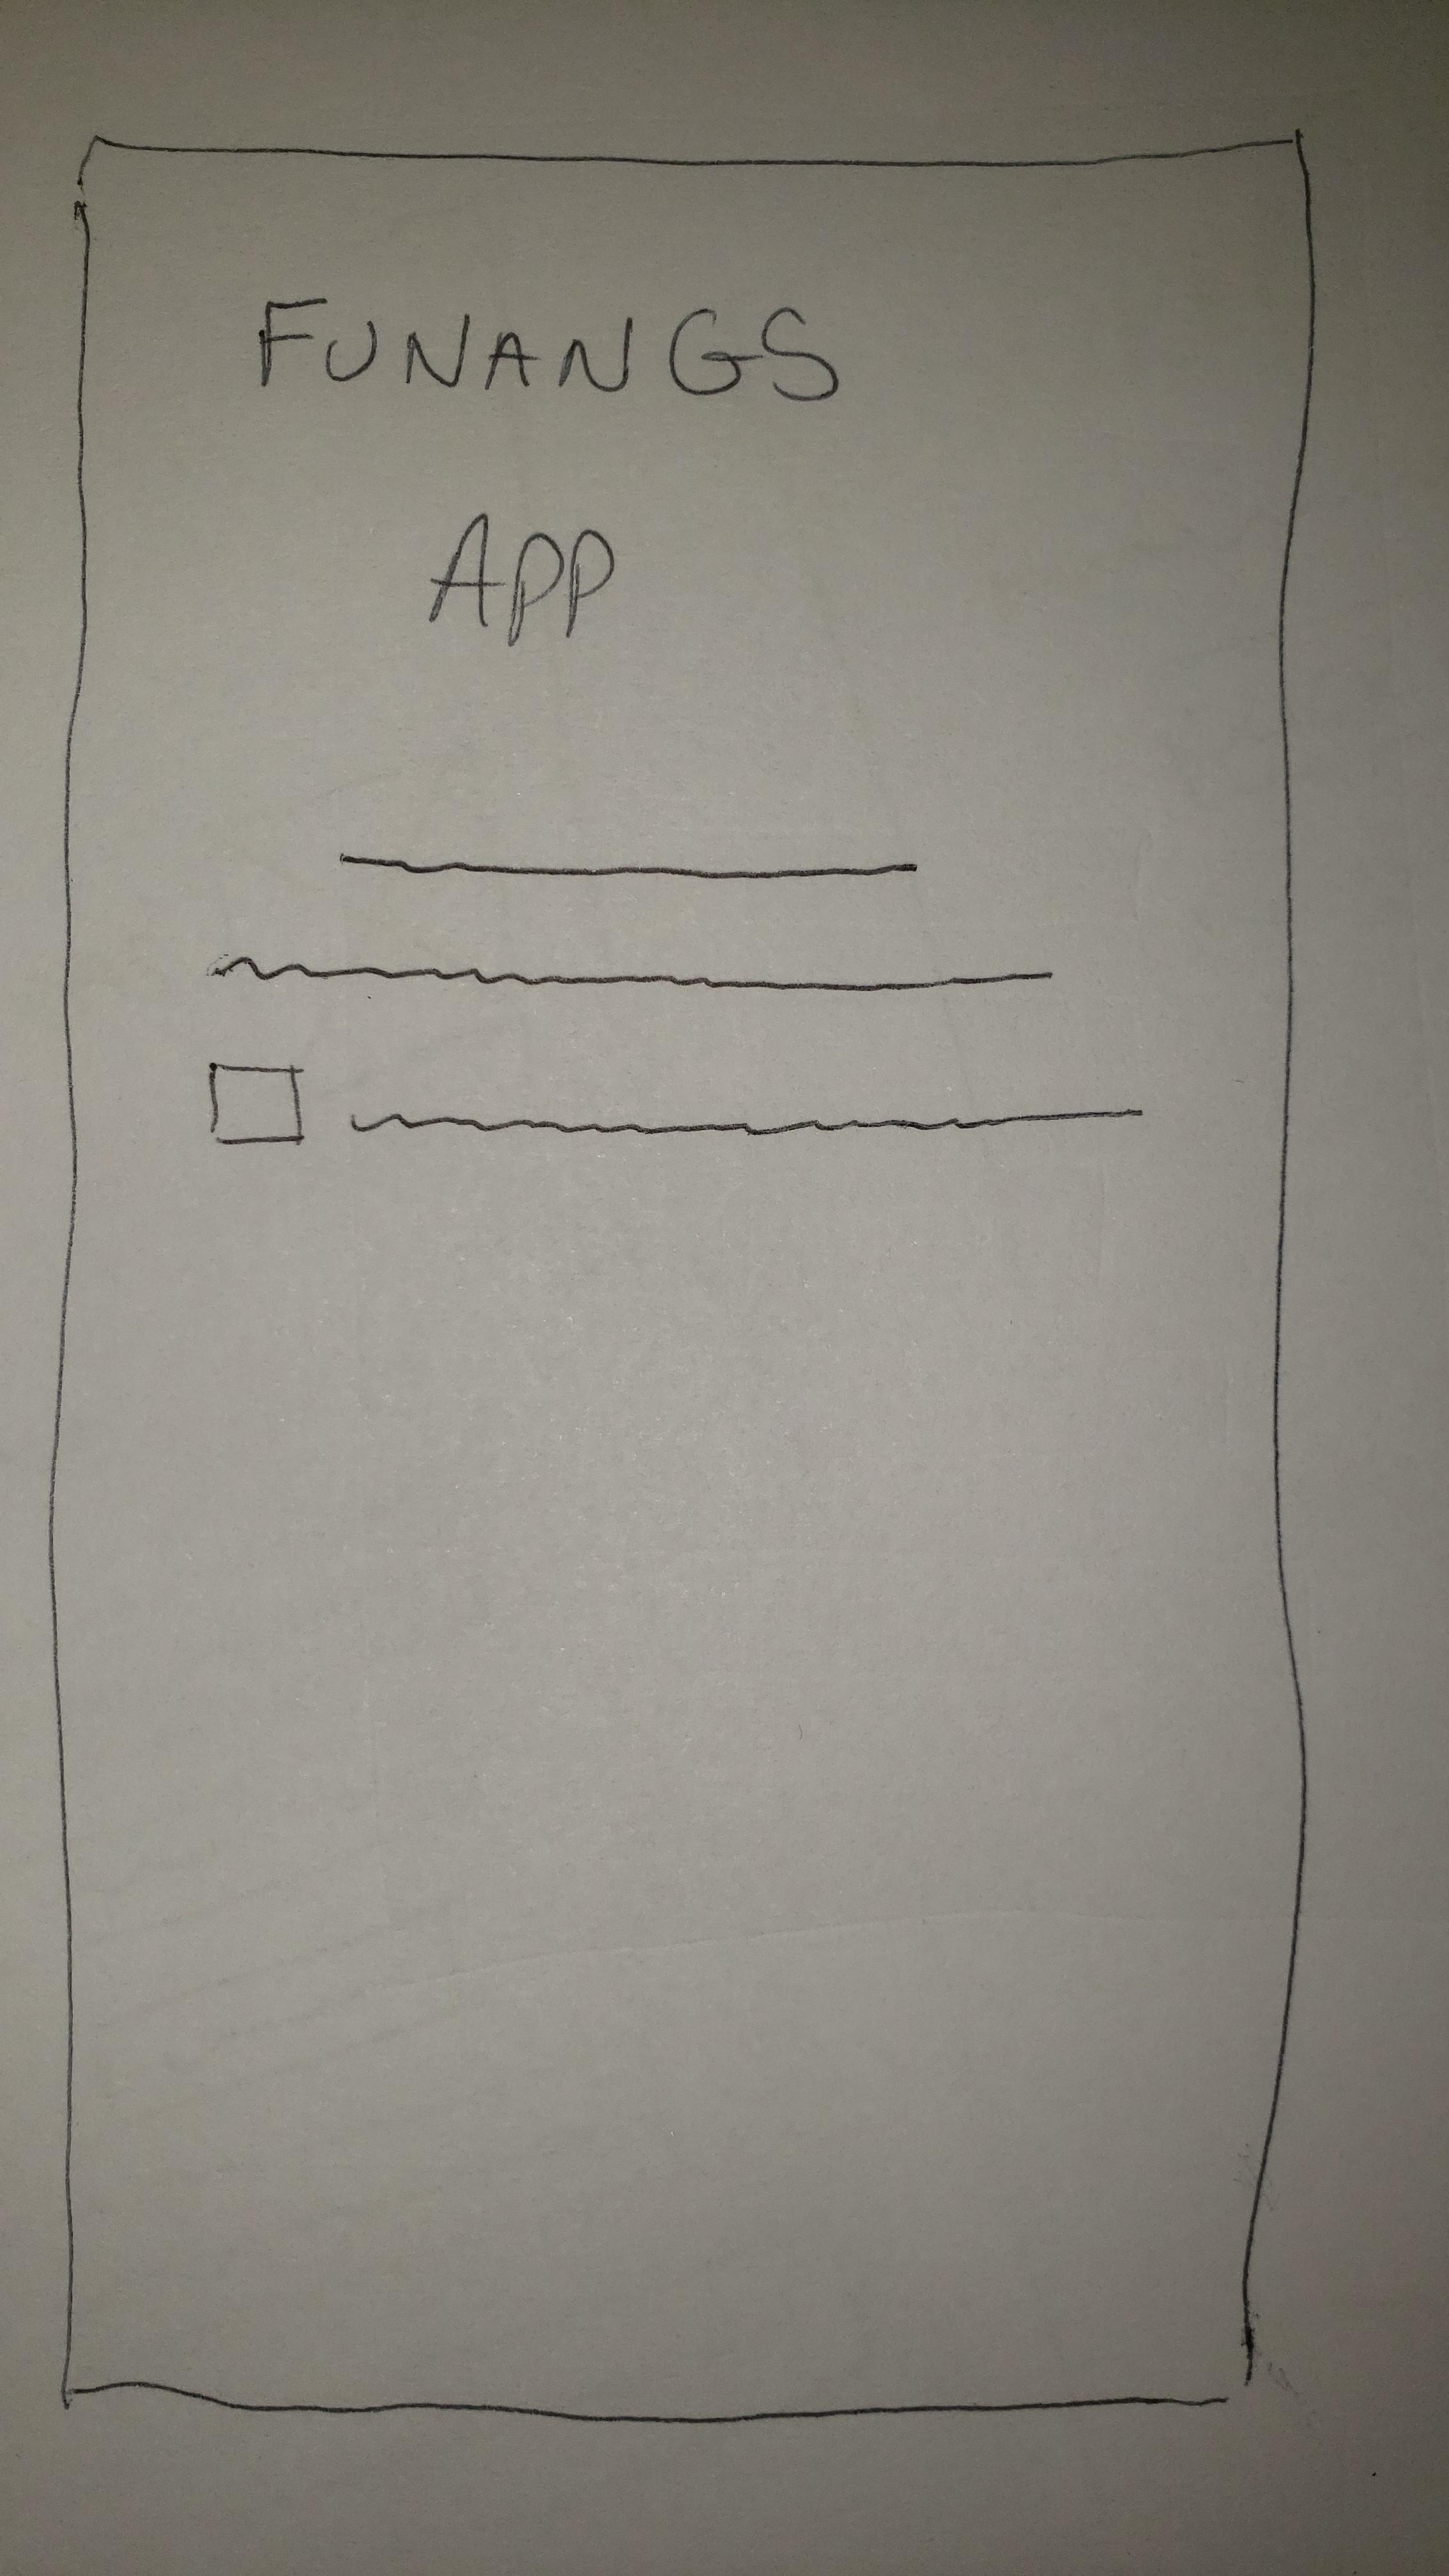CheckBox: (205, 1062, 1145, 1145)
Label: (262, 297, 840, 648), (211, 954, 1056, 994), (336, 849, 915, 888)
Screen: (51, 133, 1315, 2420)
